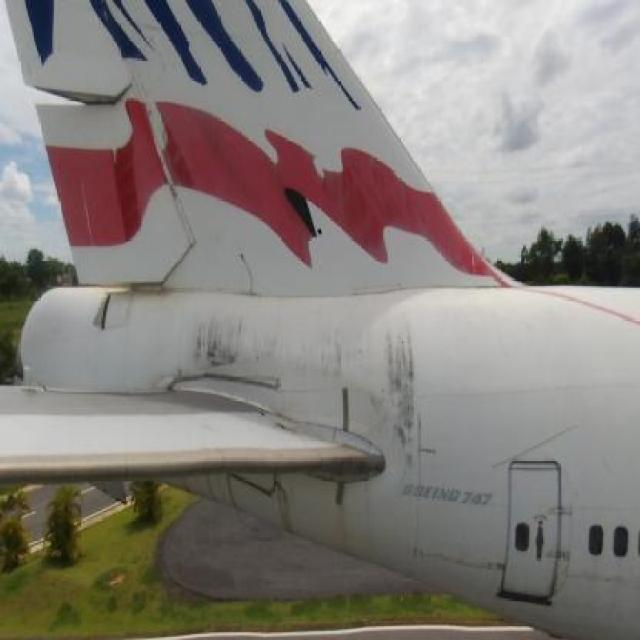Missing-Rivet: (195, 382, 273, 420), (170, 182, 196, 236)
Rust: (246, 307, 376, 388), (380, 309, 420, 460), (190, 307, 245, 376), (185, 469, 253, 518), (328, 478, 362, 564), (267, 473, 307, 545), (332, 457, 381, 481), (161, 168, 184, 214)
Scartch: (412, 542, 512, 586), (413, 414, 449, 469), (86, 288, 114, 340), (369, 388, 397, 440)
